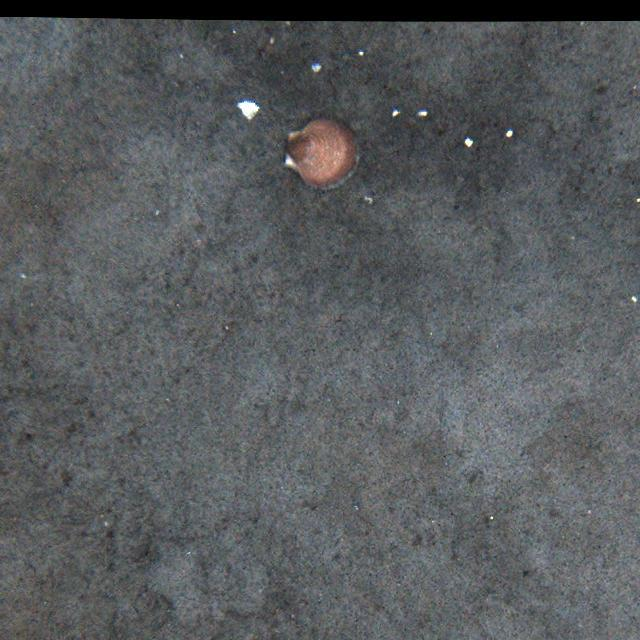scallop: (282, 116, 362, 193)
